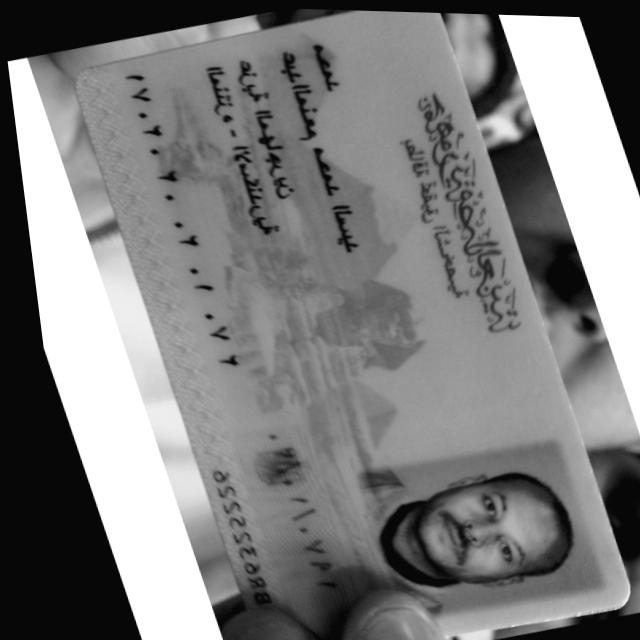front: (74, 11, 628, 640)
